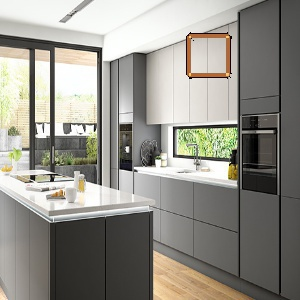square: (183, 31, 233, 80)
